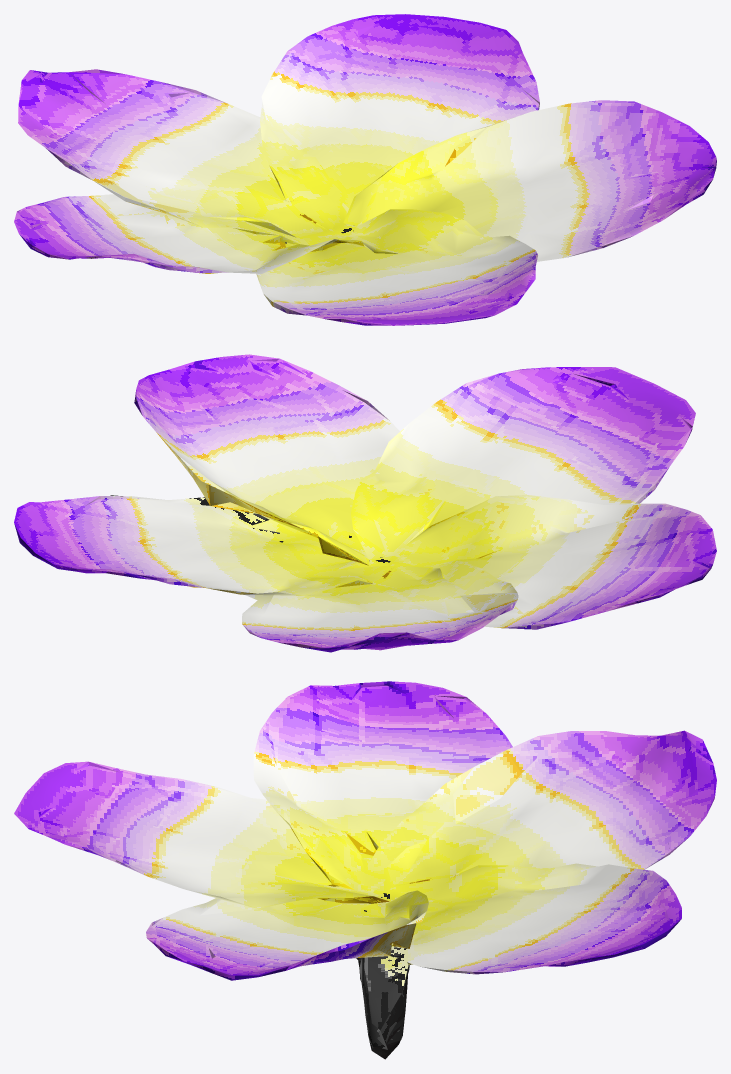
File: wear_flowerclip.glb
3 views of the same model, one above another, from view 1: azimuth 30°, elevation 25°; view 2: azimuth 150°, elevation 25°; view 3: azimuth 270°, elevation 25° (orthographic). The views are drawn at different scales.
Visible parts, largest first — view 1: mesh; view 2: mesh; view 3: mesh.
Boxes of the visible parts, x1,y1,x2,y2 form: mesh: (14,14,716,325); mesh: (14,354,716,652); mesh: (14,681,716,1059).
Size of the model in its own units: 0.2595 by 0.05 by 0.2613.
Materials: 1 (1 with a texture image).
